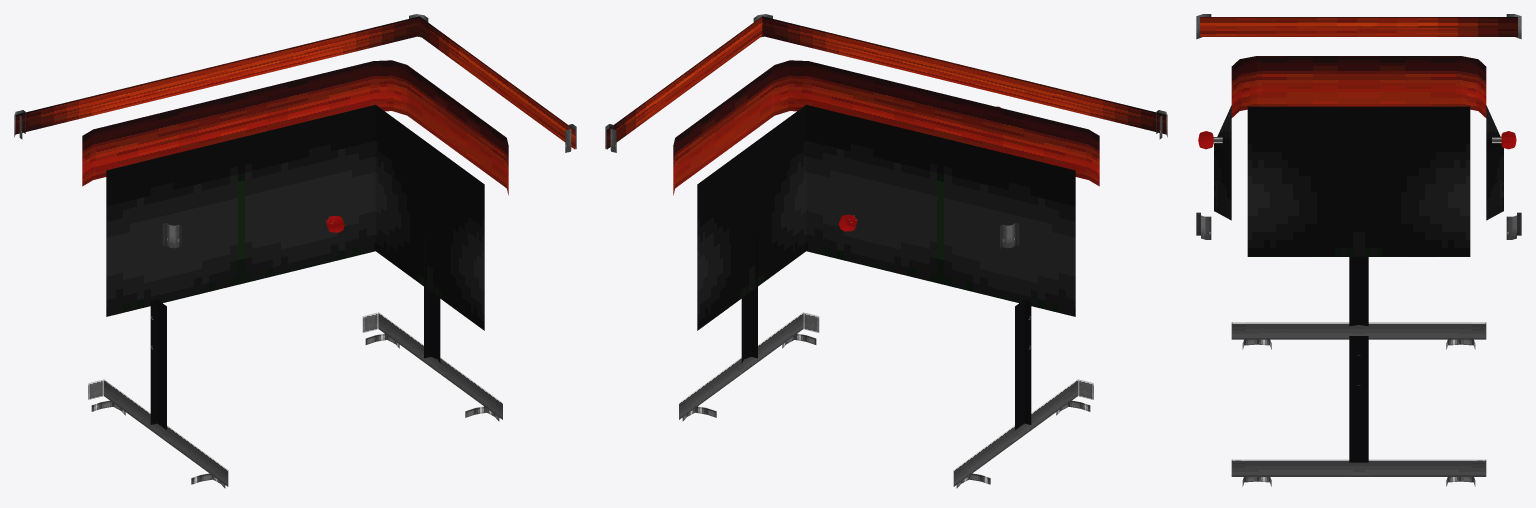
File: ps2_save-icons_segaages2500seriesvol23-segamemorialselection.glb
3 views of the same model, side by side, from view 1: azimuth 30°, elevation 25°; view 2: azimuth 150°, elevation 25°; view 3: azimuth 270°, elevation 25° (orthographic). The views are drawn at different scales.
Visible parts, largest first — view 1: sega.ico; view 2: sega.ico; view 3: sega.ico.
Part boxes in pixels (box(x1,y1,x2,y2)): sega.ico: box(14, 14, 576, 488); sega.ico: box(605, 14, 1167, 488); sega.ico: box(1196, 14, 1521, 486).
Size of the model in its own units: 5 by 3.45 by 3.36.
Materials: 1 (1 with a texture image).
